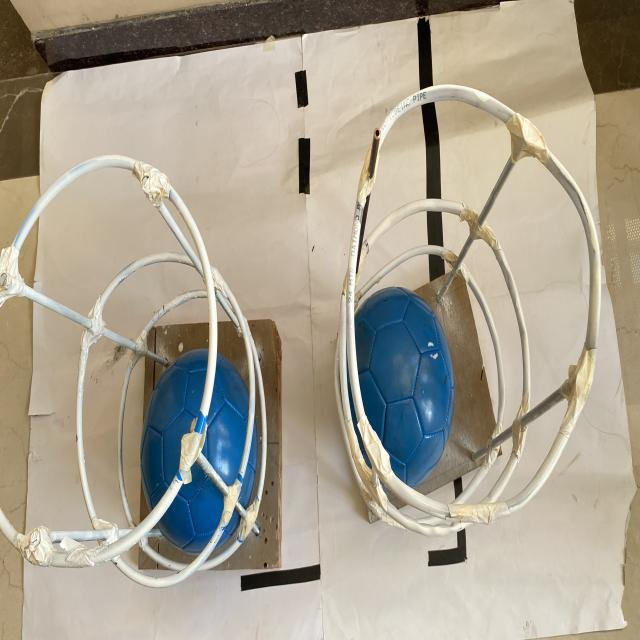blue_ball: (138, 347, 258, 556), (344, 286, 452, 499)
silo: (332, 82, 600, 540), (0, 154, 273, 572)
